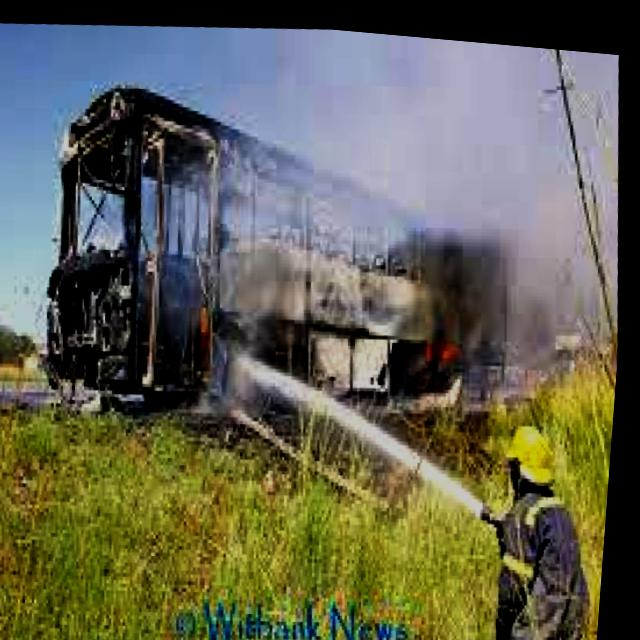Smoke: (207, 16, 621, 390)
